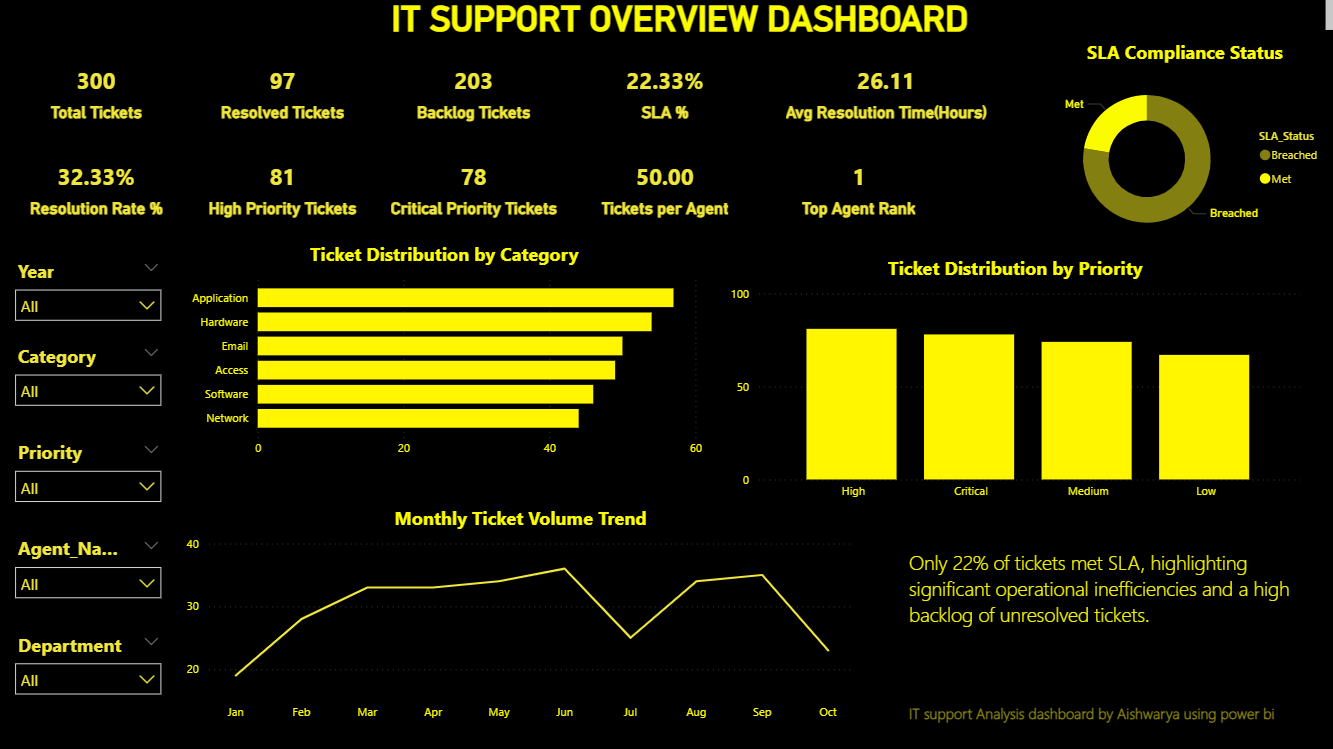

What the dashboard file says about the page in this screenshot:
{"tool":"powerbi","page":{"name":"Overview","canvas":[1280,720],"ordinal":1},"visuals":[{"type":"textbox","box":[0,0,1280.3,43.9],"z":0},{"type":"cardVisual","fields":{"Data":["Dim_Agent.Total Tickets"]},"box":[0,43.9,193.5,102.9],"z":1000},{"type":"cardVisual","fields":{"Data":["Dim_Agent.Resolved Tickets"]},"box":[177,43.9,193.5,102.9],"z":2000},{"type":"cardVisual","fields":{"Data":["Dim_Agent.Backlog Tickets"]},"box":[359.5,43.9,193.5,102.9],"z":3000},{"type":"cardVisual","fields":{"Data":["Dim_Agent.SLA %"]},"box":[542,43.9,193.5,102.9],"z":4000},{"type":"cardVisual","fields":{"Data":["Dim_Agent.Avg Resolution Time(Hours)"]},"box":[725.9,43.9,245.6,102.9],"z":5000},{"type":"cardVisual","fields":{"Data":["Dim_Agent.Resolution Rate %"]},"box":[0,135.8,193.5,102.9],"z":6000},{"type":"cardVisual","fields":{"Data":["Dim_Agent.High Priority Tickets"]},"box":[177,135.8,193.5,102.9],"z":7000},{"type":"cardVisual","fields":{"Data":["Dim_Agent.Critical Priority Tickets"]},"box":[359.5,135.8,193.5,102.9],"z":8000},{"type":"cardVisual","fields":{"Data":["Dim_Agent.Tickets per Agent"]},"box":[542,135.8,193.5,102.9],"z":9000},{"type":"cardVisual","fields":{"Data":["Dim_Agent.Agent Rank"]},"box":[725.9,135.8,193.5,102.9],"z":10000},{"type":"slicer","fields":{"Values":["Dim_Date.Year"]},"box":[0,238.8,177,79.6],"z":11000},{"type":"slicer","fields":{"Values":["Fact_Tickets.Category"]},"box":[0,319.7,177,79.6],"z":12000},{"type":"slicer","fields":{"Values":["Fact_Tickets.Priority"]},"box":[0,411.7,177,79.6],"z":13000},{"type":"slicer","fields":{"Values":["Fact_Tickets.Agent_Name"]},"box":[0,503.6,177,75.5],"z":14000},{"type":"slicer","fields":{"Values":["Dim_Department.Department"]},"box":[0,595.5,177,75.5],"z":15000},{"type":"donutChart","title":"SLA Compliance Status","fields":{"Y":["Dim_Agent.Total Tickets"],"Category":["Fact_Tickets.SLA_Status"]},"box":[985.3,43.9,295,205.8],"z":16000},{"type":"lineChart","title":"Monthly Ticket Volume Trend","fields":{"Category":["Dim_Date.Month"],"Y":["Dim_Agent.Total Tickets"]},"box":[177,488.5,646.3,214.1],"z":17000},{"type":"barChart","title":"Ticket Distribution by Category","fields":{"Category":["Dim_Category.Category"],"Y":["Dim_Agent.Total Tickets"]},"box":[177,237.4,500.9,214.1],"z":18000},{"type":"clusteredColumnChart","title":"Ticket Distribution by Priority","fields":{"Y":["Dim_Agent.Total Tickets"],"Category":["Dim_Priority.Priority"]},"box":[695.7,249.7,553,241.5],"z":19000},{"type":"textbox","box":[865.9,488.5,382.8,172.9],"z":20000},{"type":"textbox","box":[100.2,370.5,299.1,28.8],"z":21000},{"type":"textbox","box":[865.9,671,395.2,49.4],"z":22000}]}

Visuals, with their boxes in screenshot pixels (x1, y1, x2, y2), scaled from the page's 1280x720 canvas onto the 1333x749 screenshot:
textbox: <box>0,0,1332,46</box>
cardVisual - Dim_Agent.Total Tickets: <box>0,46,202,153</box>
cardVisual - Dim_Agent.Resolved Tickets: <box>184,46,386,153</box>
cardVisual - Dim_Agent.Backlog Tickets: <box>374,46,576,153</box>
cardVisual - Dim_Agent.SLA %: <box>564,46,766,153</box>
cardVisual - Dim_Agent.Avg Resolution Time(Hours): <box>756,46,1012,153</box>
cardVisual - Dim_Agent.Resolution Rate %: <box>0,141,202,248</box>
cardVisual - Dim_Agent.High Priority Tickets: <box>184,141,386,248</box>
cardVisual - Dim_Agent.Critical Priority Tickets: <box>374,141,576,248</box>
cardVisual - Dim_Agent.Tickets per Agent: <box>564,141,766,248</box>
cardVisual - Dim_Agent.Agent Rank: <box>756,141,957,248</box>
slicer - Dim_Date.Year: <box>0,248,184,331</box>
slicer - Fact_Tickets.Category: <box>0,333,184,415</box>
slicer - Fact_Tickets.Priority: <box>0,428,184,511</box>
slicer - Fact_Tickets.Agent_Name: <box>0,524,184,602</box>
slicer - Dim_Department.Department: <box>0,619,184,698</box>
"SLA Compliance Status" donutChart: <box>1026,46,1332,260</box>
"Monthly Ticket Volume Trend" lineChart: <box>184,508,857,731</box>
"Ticket Distribution by Category" barChart: <box>184,247,706,470</box>
"Ticket Distribution by Priority" clusteredColumnChart: <box>725,260,1300,511</box>
textbox: <box>902,508,1300,688</box>
textbox: <box>104,385,416,415</box>
textbox: <box>902,698,1313,748</box>
